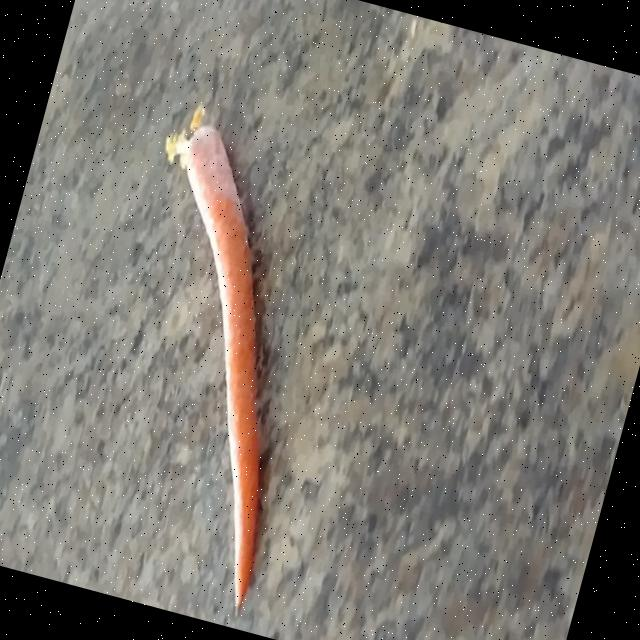carrot: (165, 104, 260, 610)
